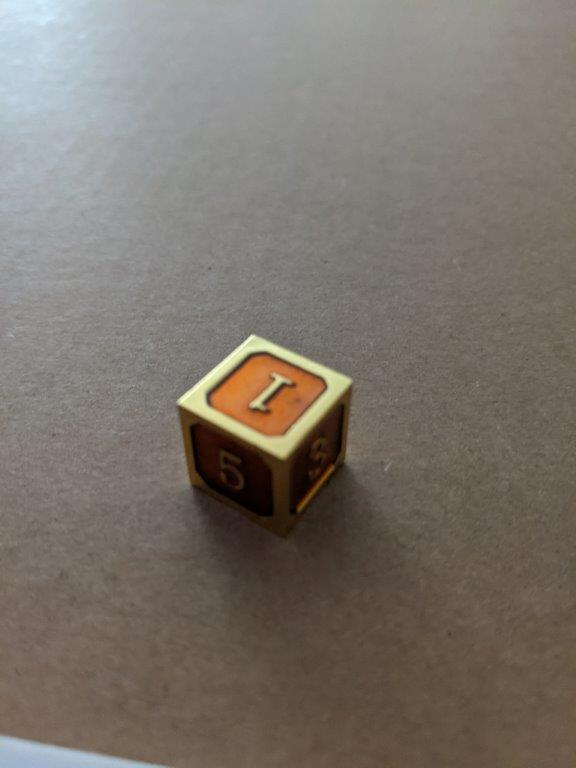d6-1: (175, 332, 356, 543)
